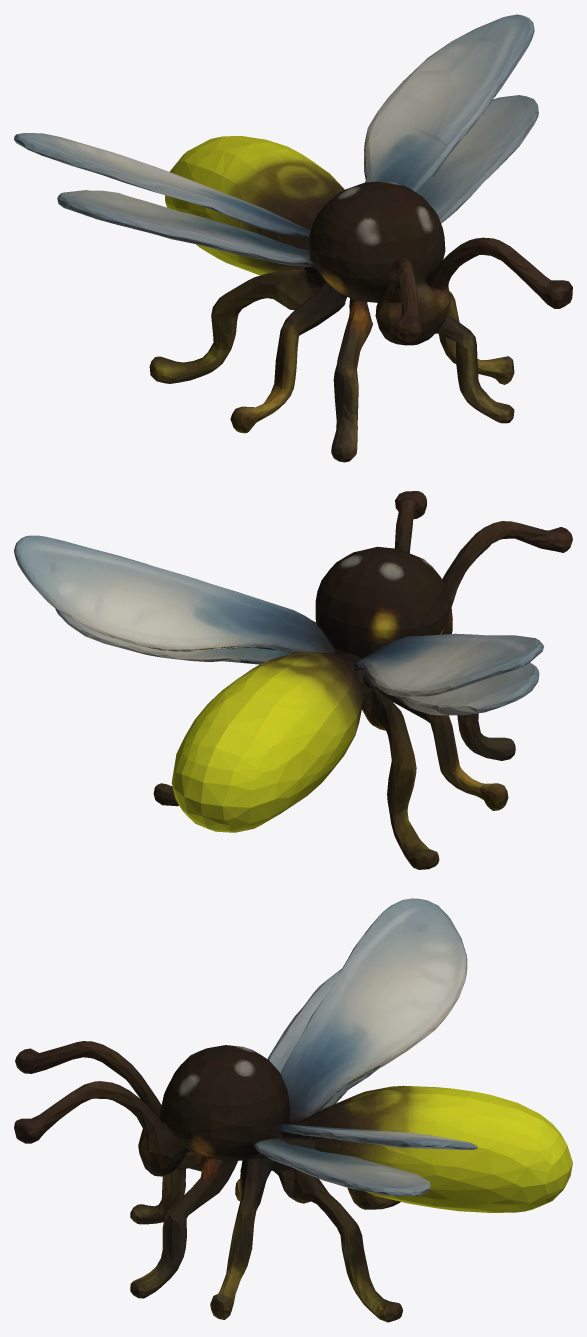
3 renders of one model, top to bottom at view 1: azimuth 30°, elevation 25°; view 2: azimuth 150°, elevation 25°; view 3: azimuth 270°, elevation 25°, orthographic. The views are drawn at different scales.
Parts seen in each view (by area): view 1: world; view 2: world; view 3: world.
Boxes of the visible parts, bbox=[...] form: world: bbox=[14, 14, 572, 462]; world: bbox=[14, 491, 572, 869]; world: bbox=[14, 898, 572, 1322].
Size of the model in its own units: 0.9987 by 0.484 by 0.9924.
1 material, 1 textured.
